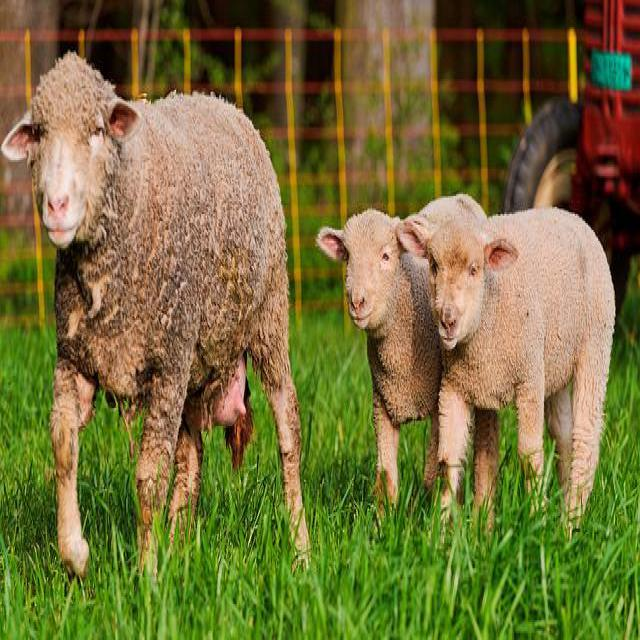Sheep: (2, 59, 308, 530), (400, 205, 617, 543), (315, 208, 442, 526)
